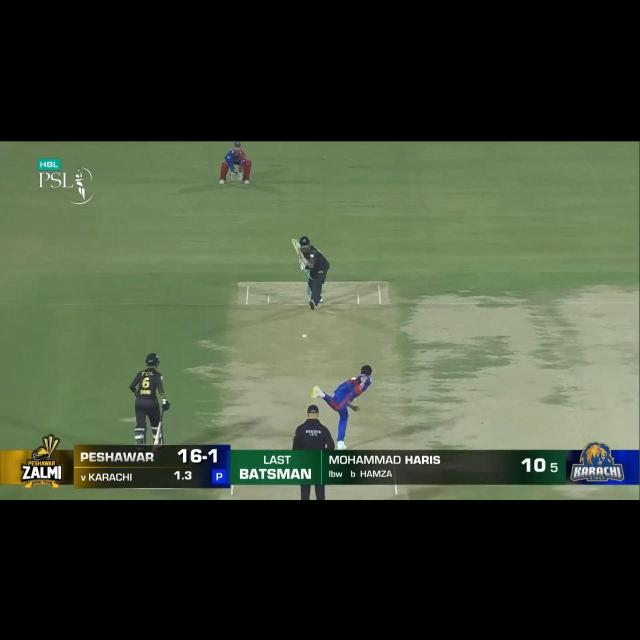bat: (290, 237, 305, 262), (154, 421, 163, 445)
toe: (289, 237, 300, 245)
